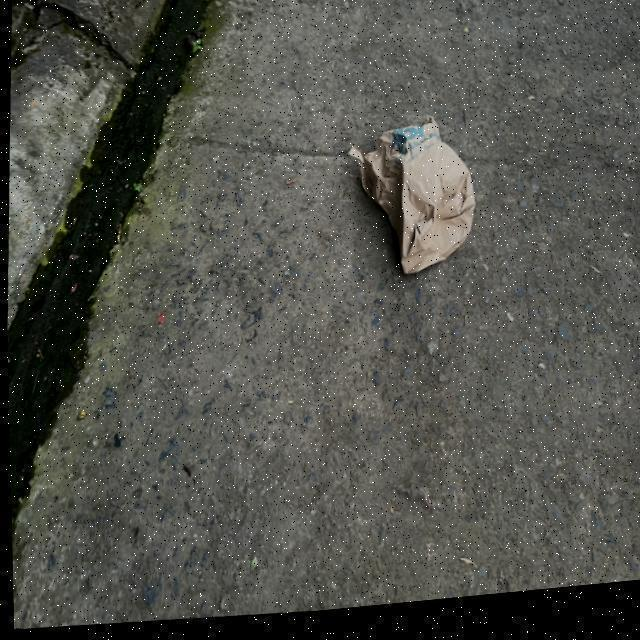Paper_Bag: (342, 120, 476, 287)
